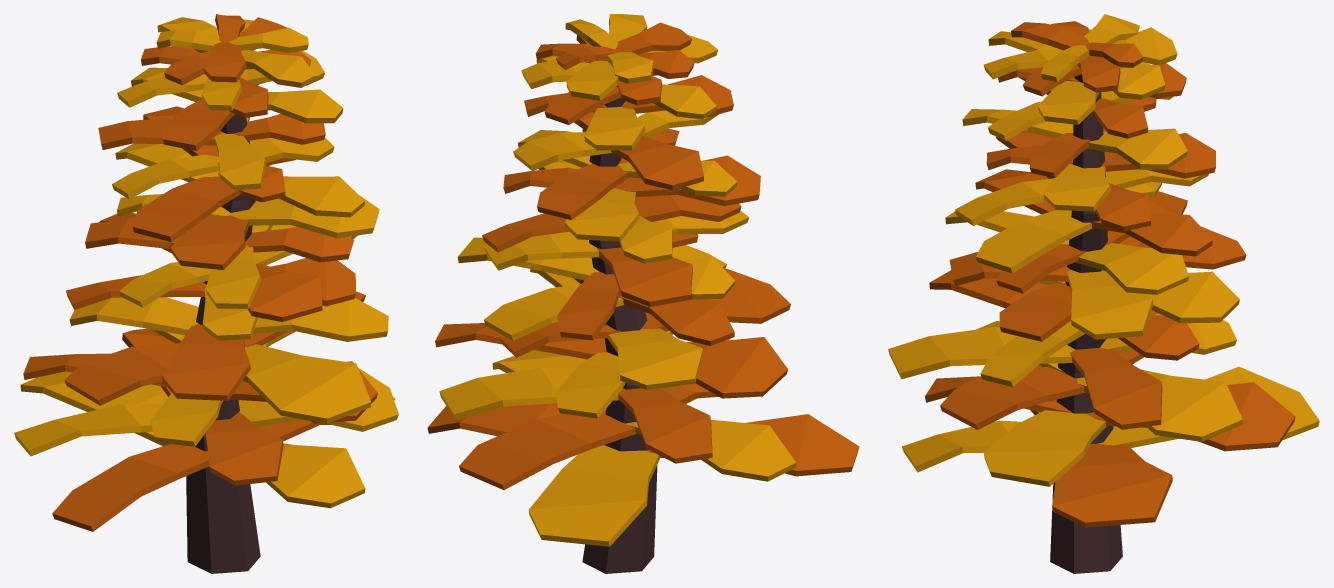
Rendered from Tree_9.glb.
3 views of the same model, side by side, from view 1: azimuth 30°, elevation 25°; view 2: azimuth 150°, elevation 25°; view 3: azimuth 270°, elevation 25° (orthographic).
Parts seen in each view (by area): view 1: Tree 9; view 2: Tree 9; view 3: Tree 9.
Boxes of the visible parts, left/top/right/bottom form: Tree 9: left=14, top=14, right=398, bottom=573; Tree 9: left=427, top=14, right=859, bottom=573; Tree 9: left=888, top=14, right=1319, bottom=573.
Bounding box in the file's own units: 3.2 × 4.28 × 3.2.
